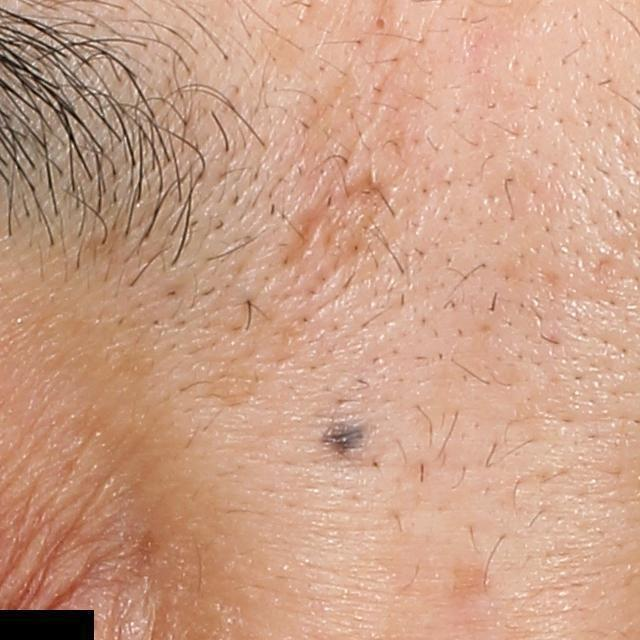atrophic_scar: (341, 172, 400, 234), (279, 206, 326, 269)
comedo: (370, 12, 389, 34)
nevus: (325, 424, 375, 465)
